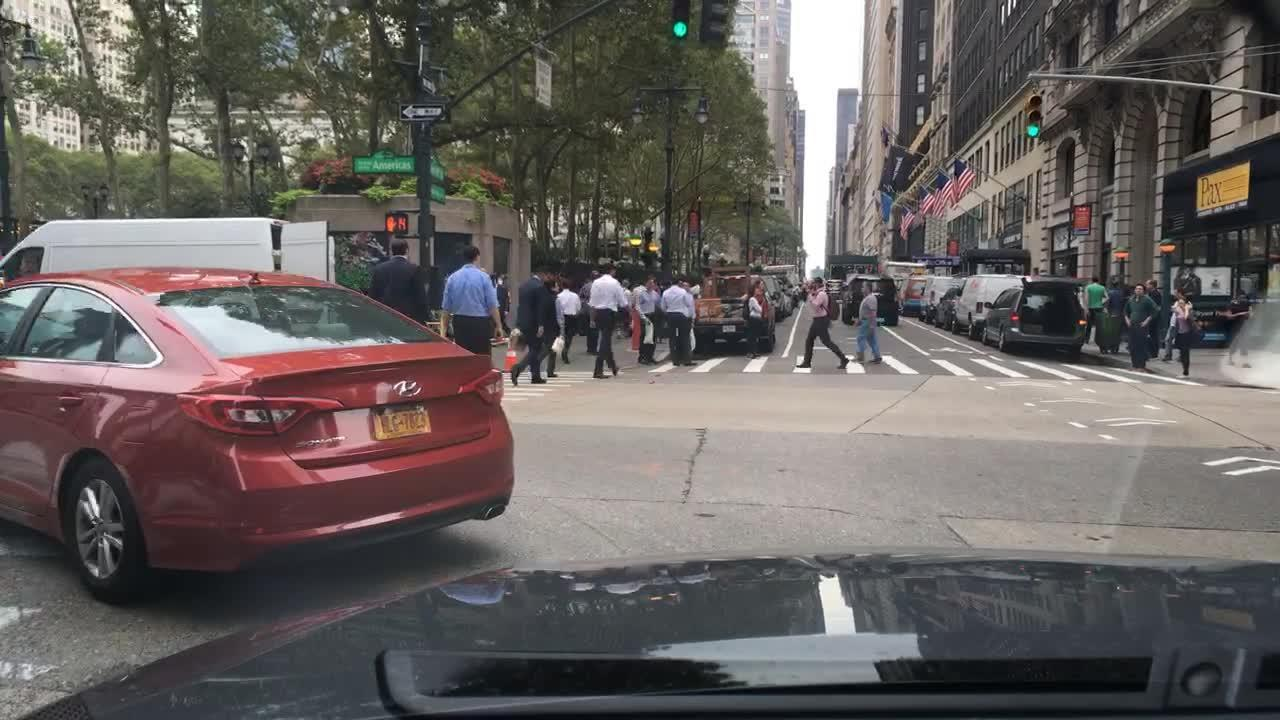Hyundai: (372, 367, 434, 404)
